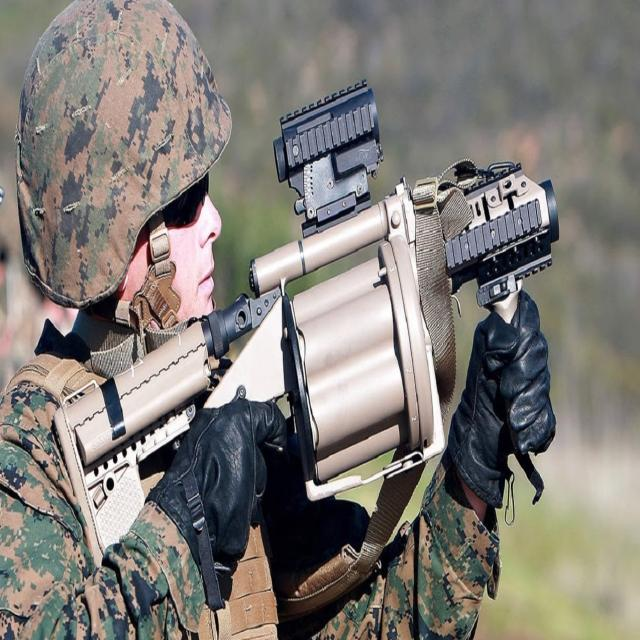Weapon: (57, 81, 558, 617)
